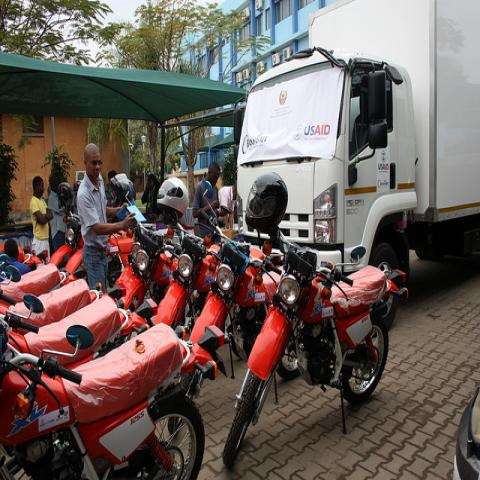car: (452, 388, 480, 472)
motorcycle: (222, 229, 410, 471), (1, 315, 217, 473), (191, 206, 284, 377), (0, 265, 108, 335), (1, 291, 129, 349), (156, 232, 216, 342), (113, 221, 183, 312), (59, 226, 135, 291), (1, 261, 69, 301), (49, 198, 82, 270)
truck: (233, 0, 480, 323)
